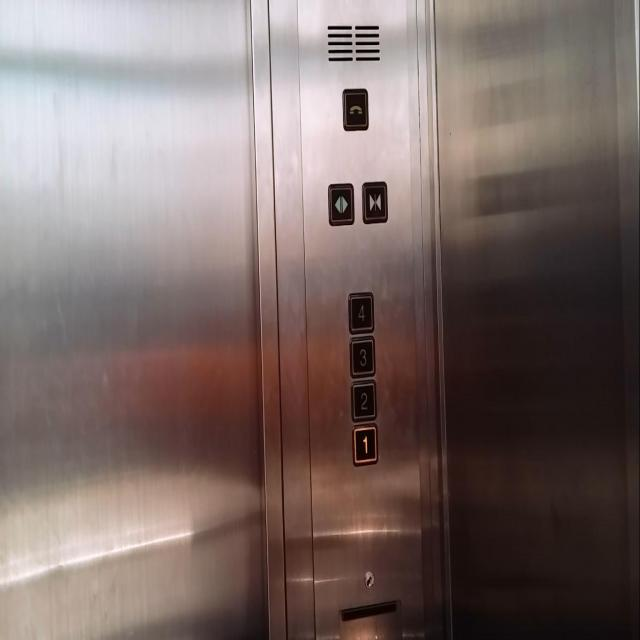1: (350, 421, 379, 468)
2: (349, 378, 378, 423)
3: (348, 332, 376, 380)
4: (346, 289, 376, 335)
call: (340, 85, 370, 133)
close: (359, 178, 388, 226)
keyhole: (363, 568, 375, 592)
open: (326, 180, 355, 228)
